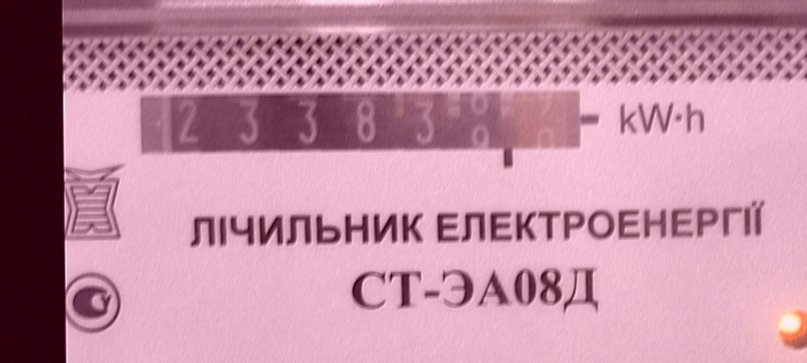0: (537, 126, 559, 152)
2: (178, 100, 203, 146)
3: (294, 98, 324, 147), (236, 98, 265, 147), (414, 100, 438, 146)
8: (354, 99, 381, 145), (470, 92, 493, 119)
9: (471, 123, 493, 153), (536, 90, 558, 120)
screen: (130, 81, 604, 177)
